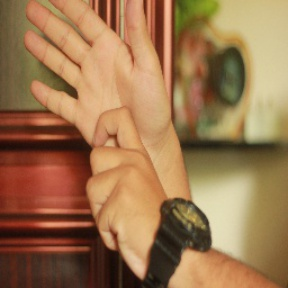R: (22, 2, 176, 242)
